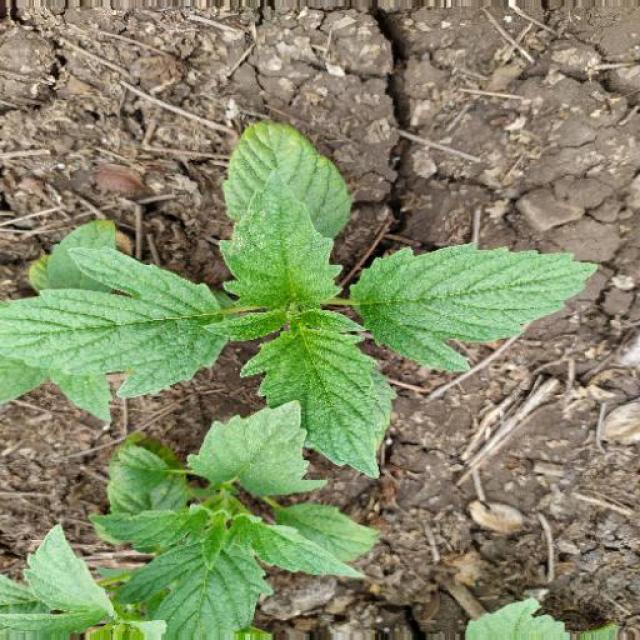crop: (31, 131, 601, 464), (76, 392, 418, 638)
